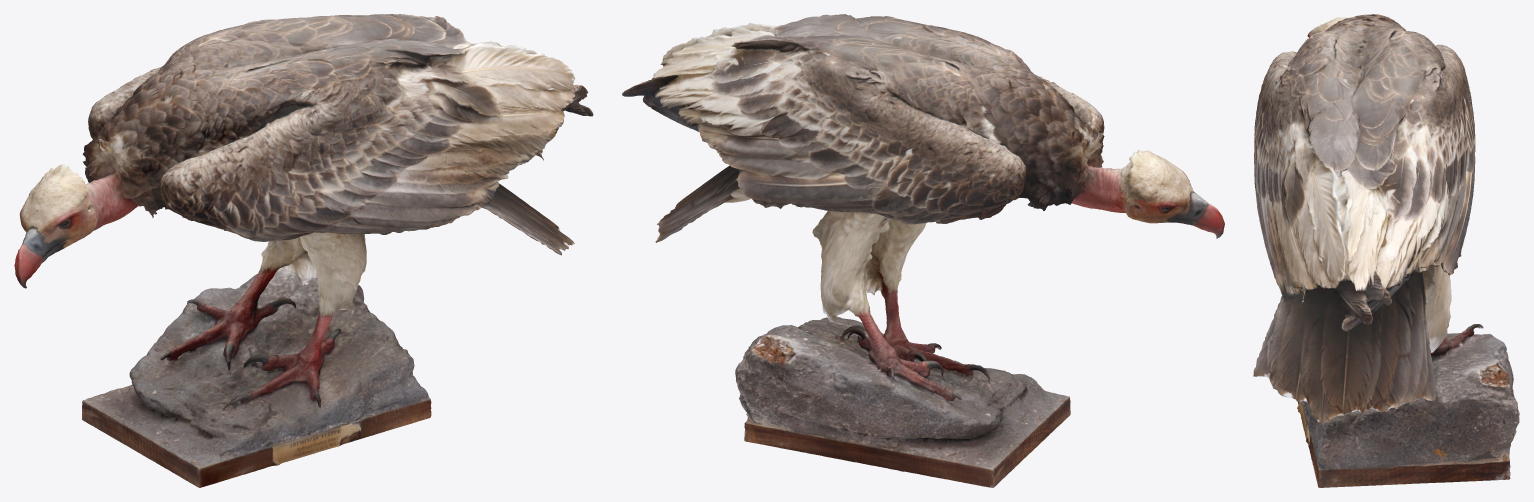
3 views of the same model, side by side, from view 1: azimuth 30°, elevation 25°; view 2: azimuth 150°, elevation 25°; view 3: azimuth 270°, elevation 25° (orthographic). The views are drawn at different scales.
Visible parts, largest first — view 1: Object_3, Object_4; view 2: Object_3, Object_4; view 3: Object_3, Object_4.
Boxes of the visible parts, left/top/right/bottom form: Object_3: left=14, top=14, right=593, bottom=487; Object_4: left=15, top=18, right=589, bottom=484; Object_3: left=622, top=14, right=1224, bottom=487; Object_4: left=623, top=14, right=1223, bottom=470; Object_3: left=1253, top=14, right=1519, bottom=487; Object_4: left=1254, top=35, right=1513, bottom=484.
Bounding box in the file's own units: 9.02 × 5.6 × 3.61.
1 material, 1 textured.
